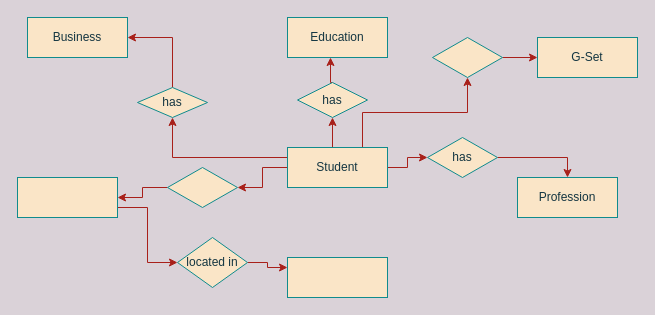
This 655x315 diagram has some shape labels left out. The shapes that lost their labels are listed below. From the top down, each one's centre as x and y in pixels, then its label:
At pixel 467 57: "belongs to".
At pixel 67 197: "State".
At pixel 202 187: "resides in".
At pixel 337 277: "Country".
